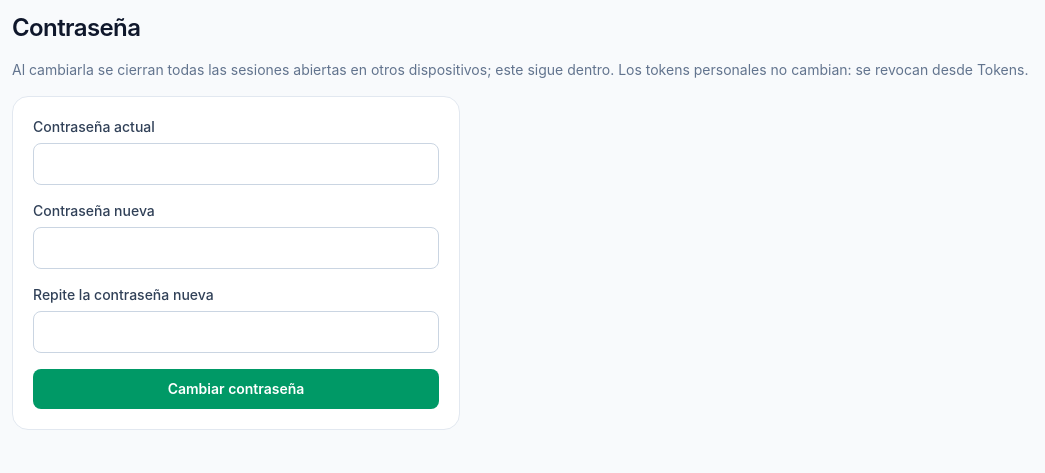
PasswordPage › does not send a new password that was mistyped
Type "password123" into the password field labelled "Contraseña actual". click: (236, 164)
box: [33,143,439,185]
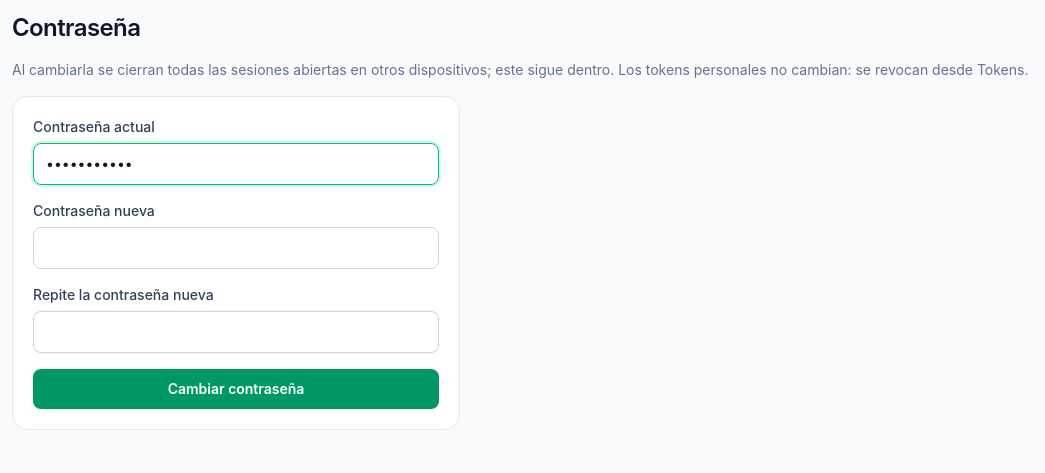
Type "una-mejor-clave" into the password field labelled "Contraseña nueva". click: (236, 248)
box: [33,227,439,269]
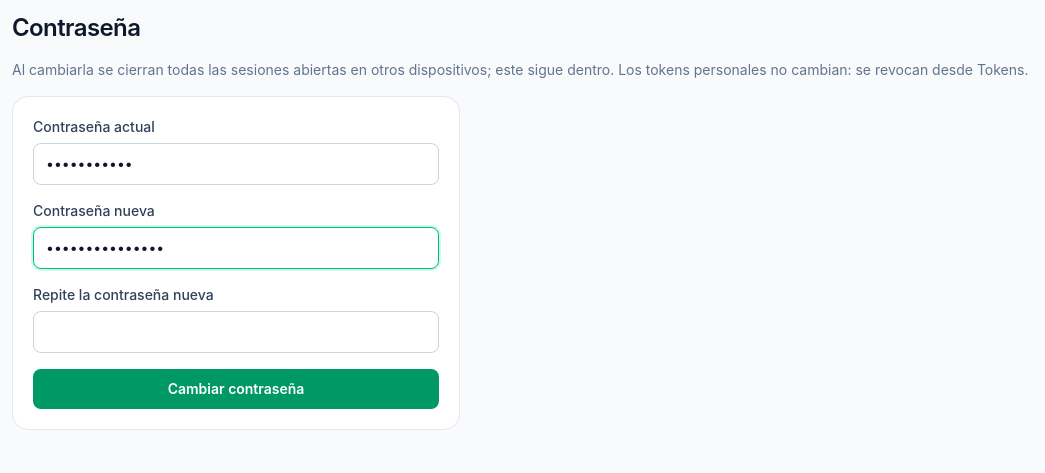
Type "una-mejor-clabe" into the password field labelled "Repite la contraseña nueva". click: (236, 332)
box: [33,311,439,353]
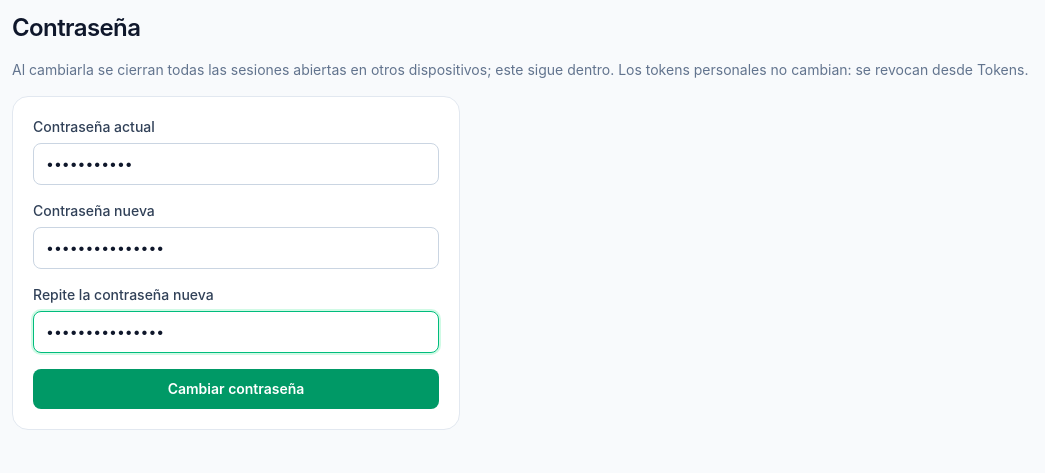
Click the button "Cambiar contraseña". click: (236, 389)
box: [33,369,439,409]
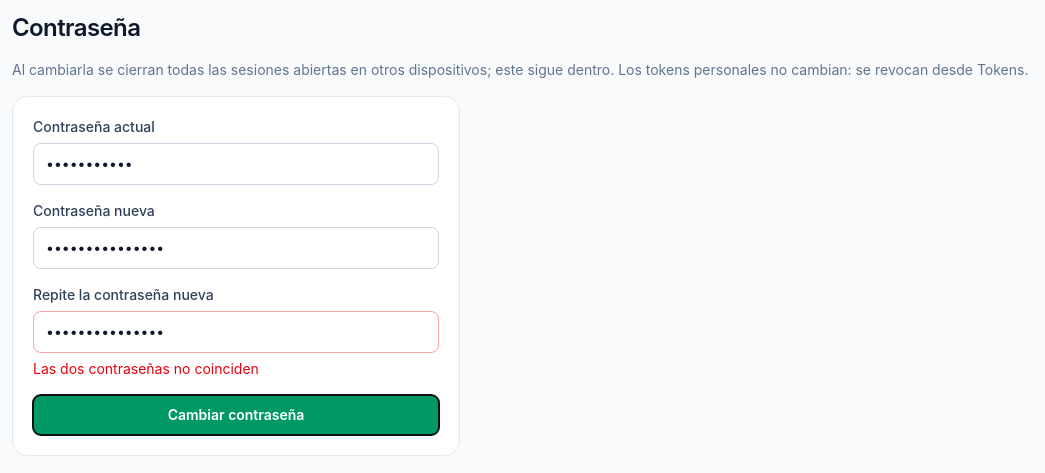
Expected: the text "Las dos contraseñas no coinciden" is shown, [33,360,259,377]
